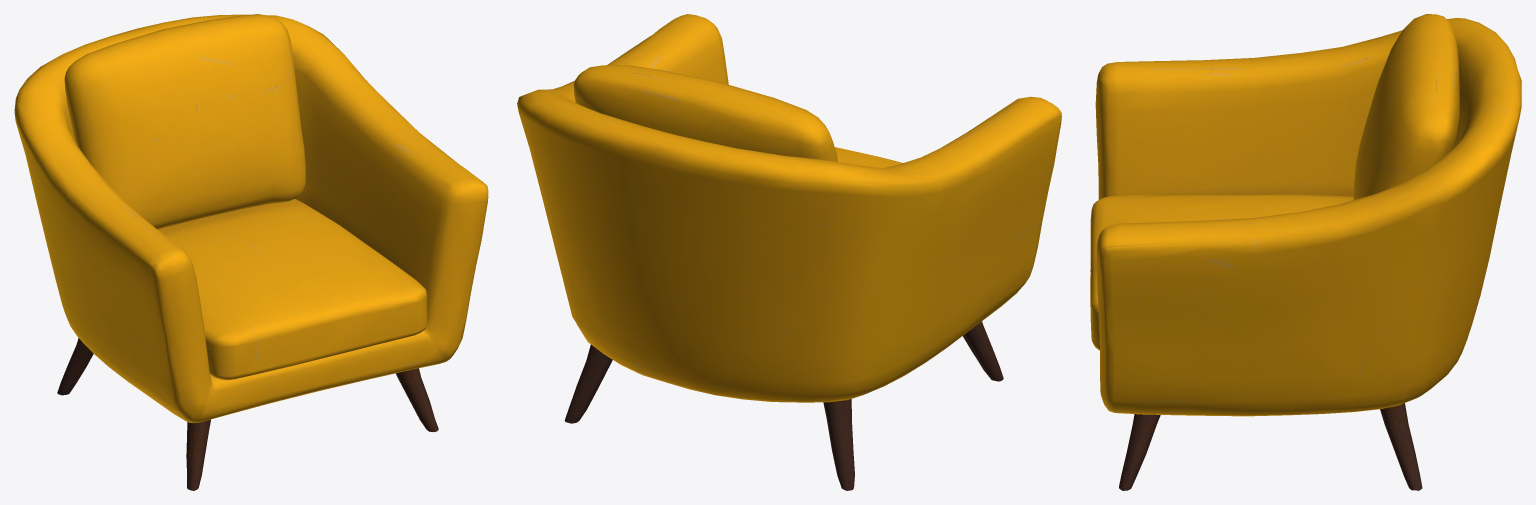
Rendered from armchair.glb.
3 renders of one model, left to right at view 1: azimuth 30°, elevation 25°; view 2: azimuth 150°, elevation 25°; view 3: azimuth 270°, elevation 25°, orthographic. The views are drawn at different scales.
Size of the model in its own units: 1 by 0.941 by 1.
1 material, 1 textured.
